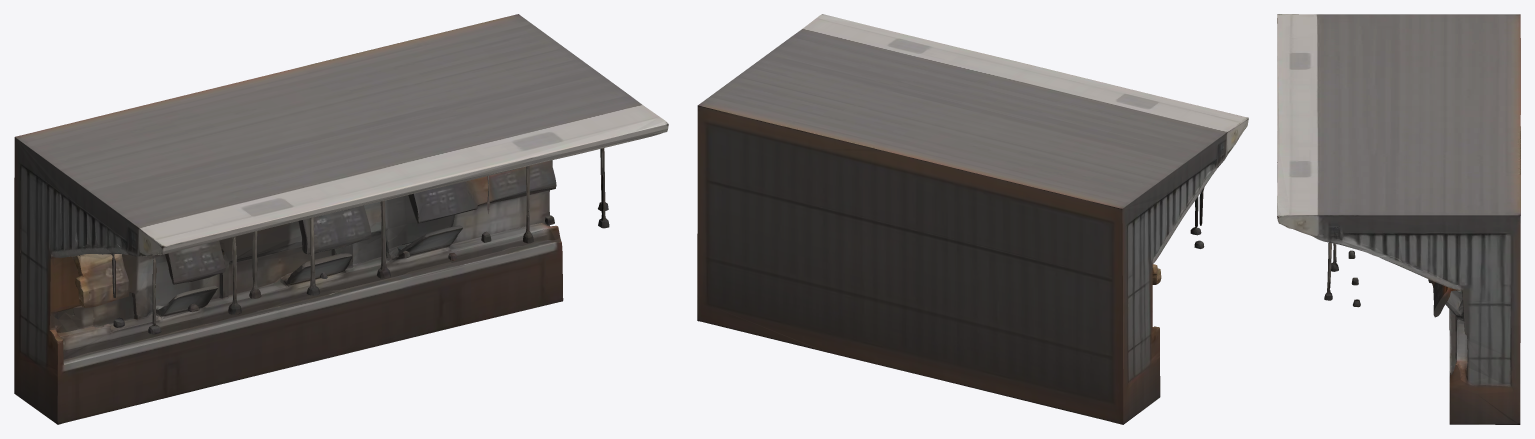
The picture shows the model from 3 angles, left to right: view 1: azimuth 30°, elevation 25°; view 2: azimuth 150°, elevation 25°; view 3: azimuth 270°, elevation 25°; orthographic projection. The views are drawn at different scales.
Parts seen in each view (by area): view 1: geometry_0; view 2: geometry_0; view 3: geometry_0.
Boxes of the visible parts, x1,y1,x2,y2 form: geometry_0: [14, 14, 668, 424]; geometry_0: [697, 14, 1248, 424]; geometry_0: [1277, 14, 1520, 424].
Size of the model in its own units: 1 by 0.484 by 0.5105.
1 material, 1 textured.
